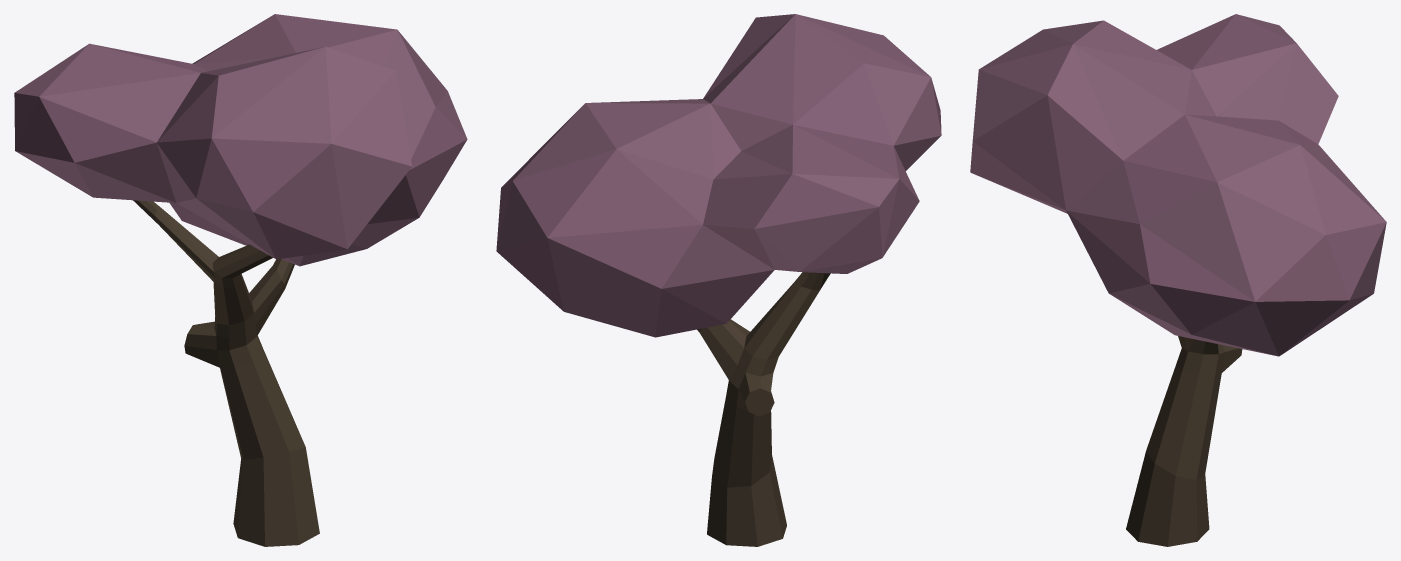
The model's file is TreePink.fbx.
3 renders of one model, left to right at view 1: azimuth 30°, elevation 25°; view 2: azimuth 150°, elevation 25°; view 3: azimuth 270°, elevation 25°, orthographic. The views are drawn at different scales.
Parts seen in each view (by area): view 1: TreePink; view 2: TreePink; view 3: TreePink.
Part boxes in pixels (x1,y1,x2,y2): TreePink: [14, 14, 467, 546]; TreePink: [496, 14, 941, 546]; TreePink: [970, 14, 1386, 546].
Bounding box in the file's own units: 380 × 447 × 348.
